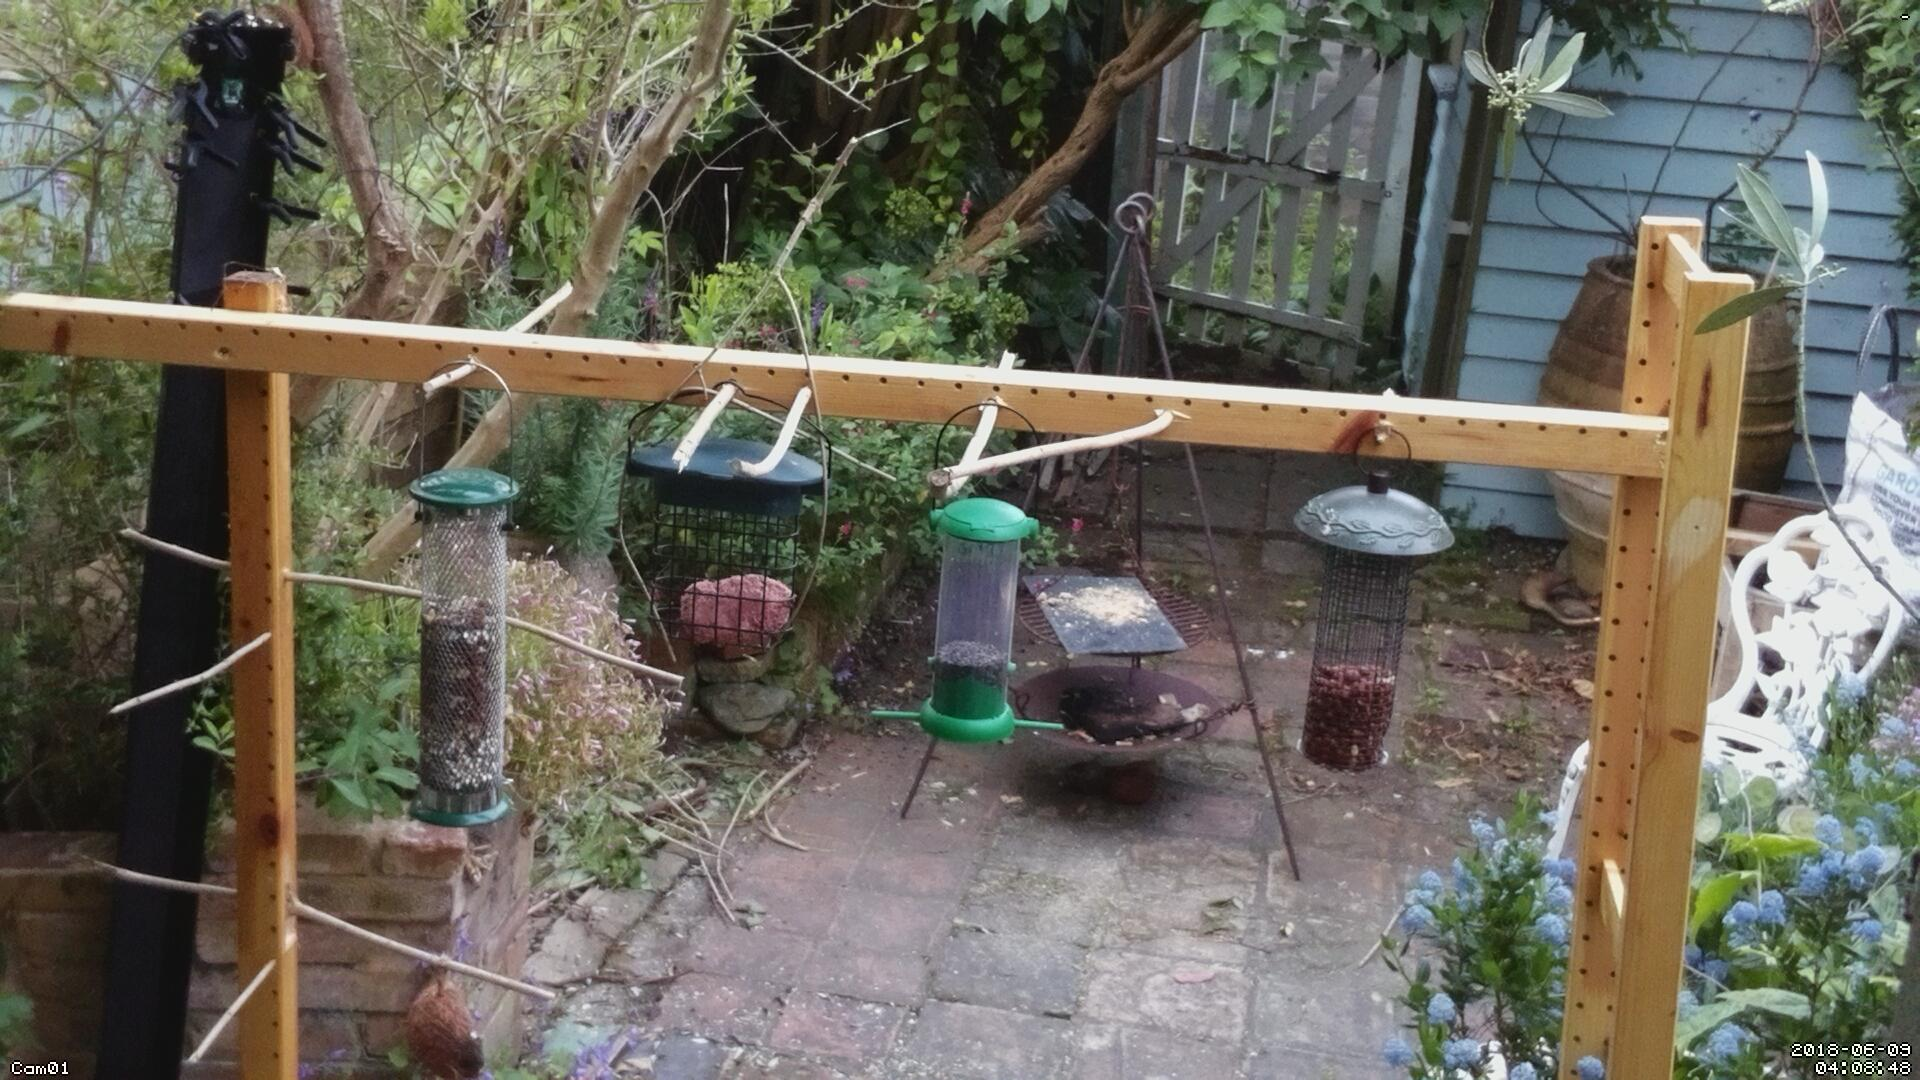unclassified: (182, 313, 731, 491), (454, 348, 939, 518), (245, 767, 505, 1036), (644, 34, 903, 280), (1680, 765, 1874, 1036), (1371, 33, 1481, 396), (967, 160, 1126, 274)
